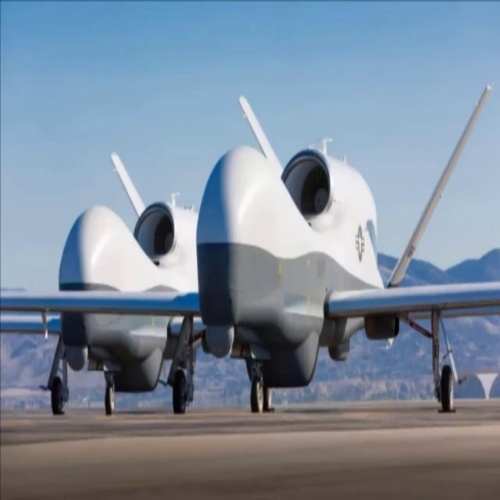uav: (1, 74, 498, 422), (1, 146, 200, 413)
